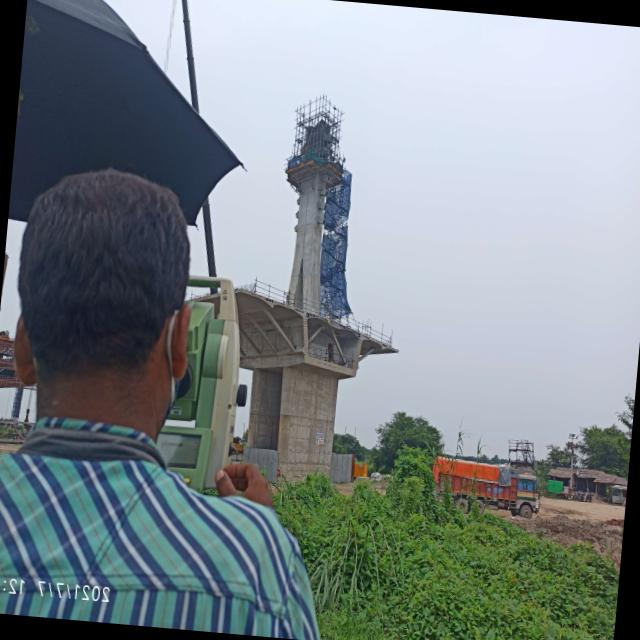grass: (273, 475, 619, 640)
